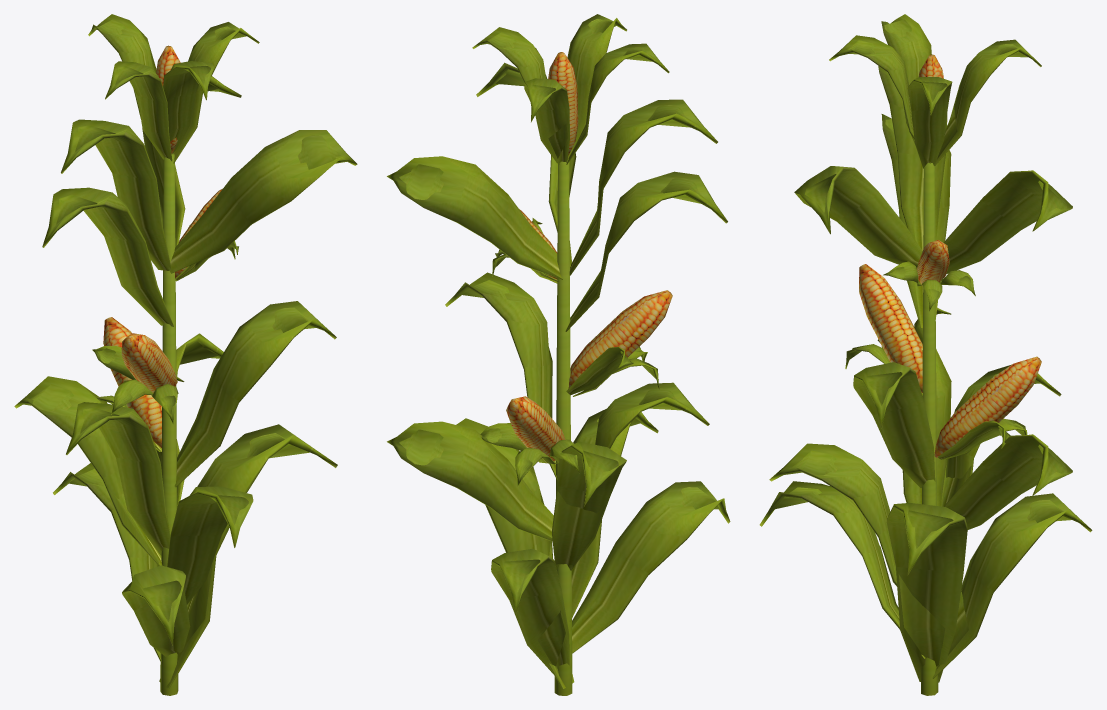
Rendered from corn.glb.
3 views of the same model, side by side, from view 1: azimuth 30°, elevation 25°; view 2: azimuth 150°, elevation 25°; view 3: azimuth 270°, elevation 25° (orthographic).
Parts seen in each view (by area): view 1: Circle_020; view 2: Circle_020; view 3: Circle_020.
Part boxes in pixels (x1,y1,x2,y2): Circle_020: (14, 14, 357, 695); Circle_020: (387, 14, 730, 695); Circle_020: (759, 14, 1092, 695).
Bounding box in the file's own units: 1.17 × 2.41 × 1.12.
2 materials, 2 textured.
